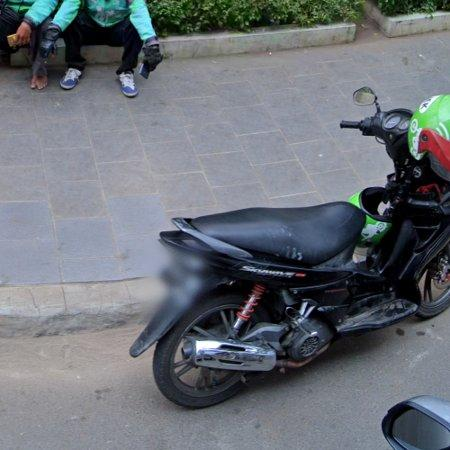motorcycles: (130, 106, 450, 408)
